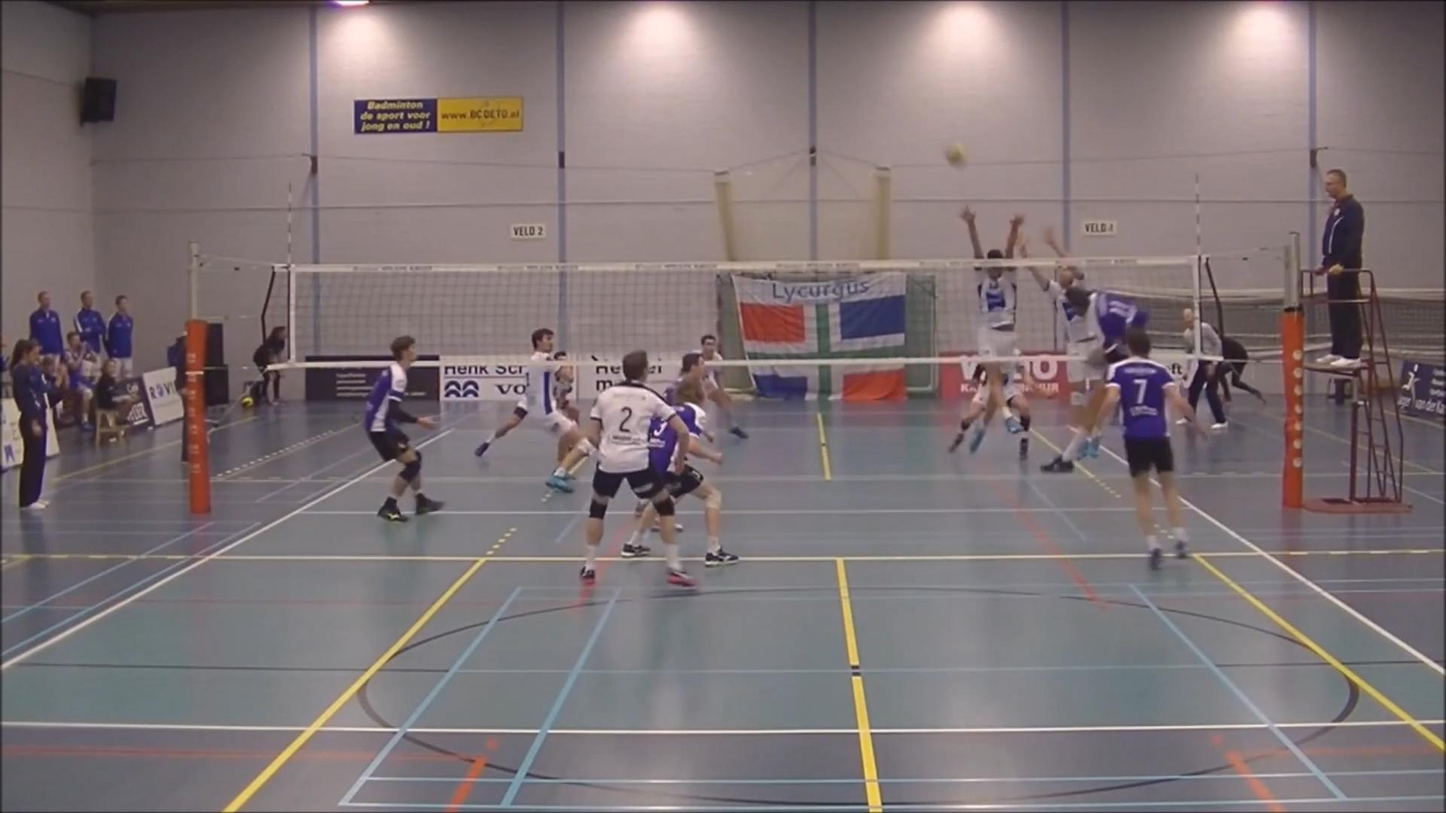attacco: (1039, 280, 1149, 478)
muro: (1005, 222, 1115, 478), (939, 199, 1026, 450)
